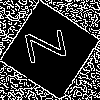Z: (25, 25, 76, 64)
